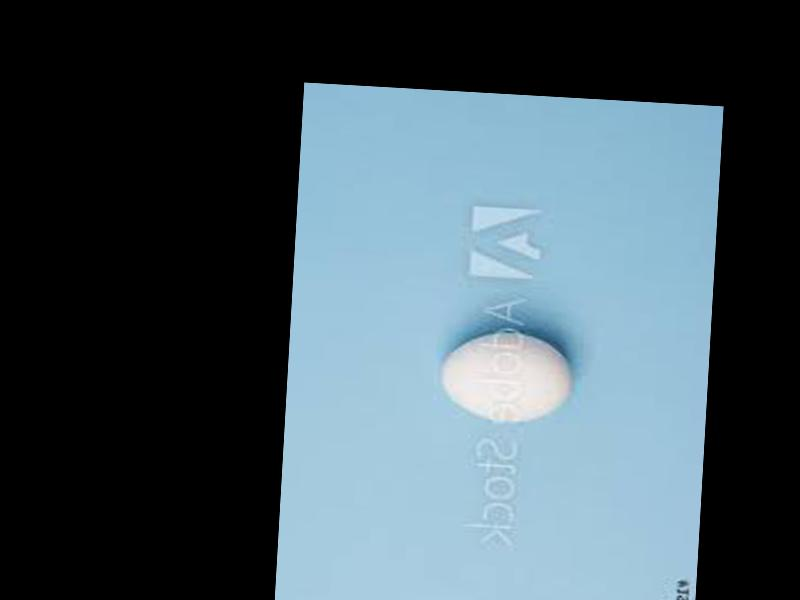Eggs: (441, 329, 572, 424)
